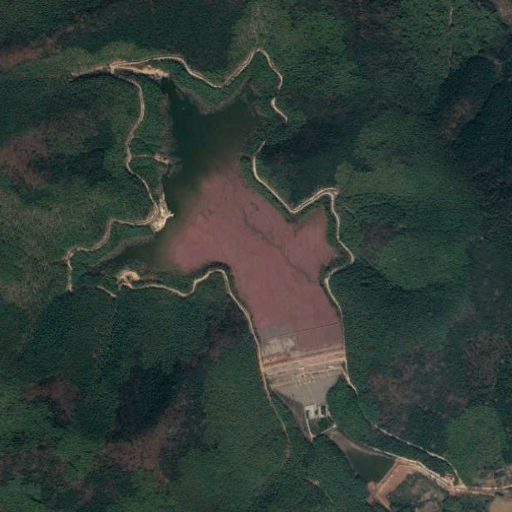tp: (94, 71, 348, 406)
